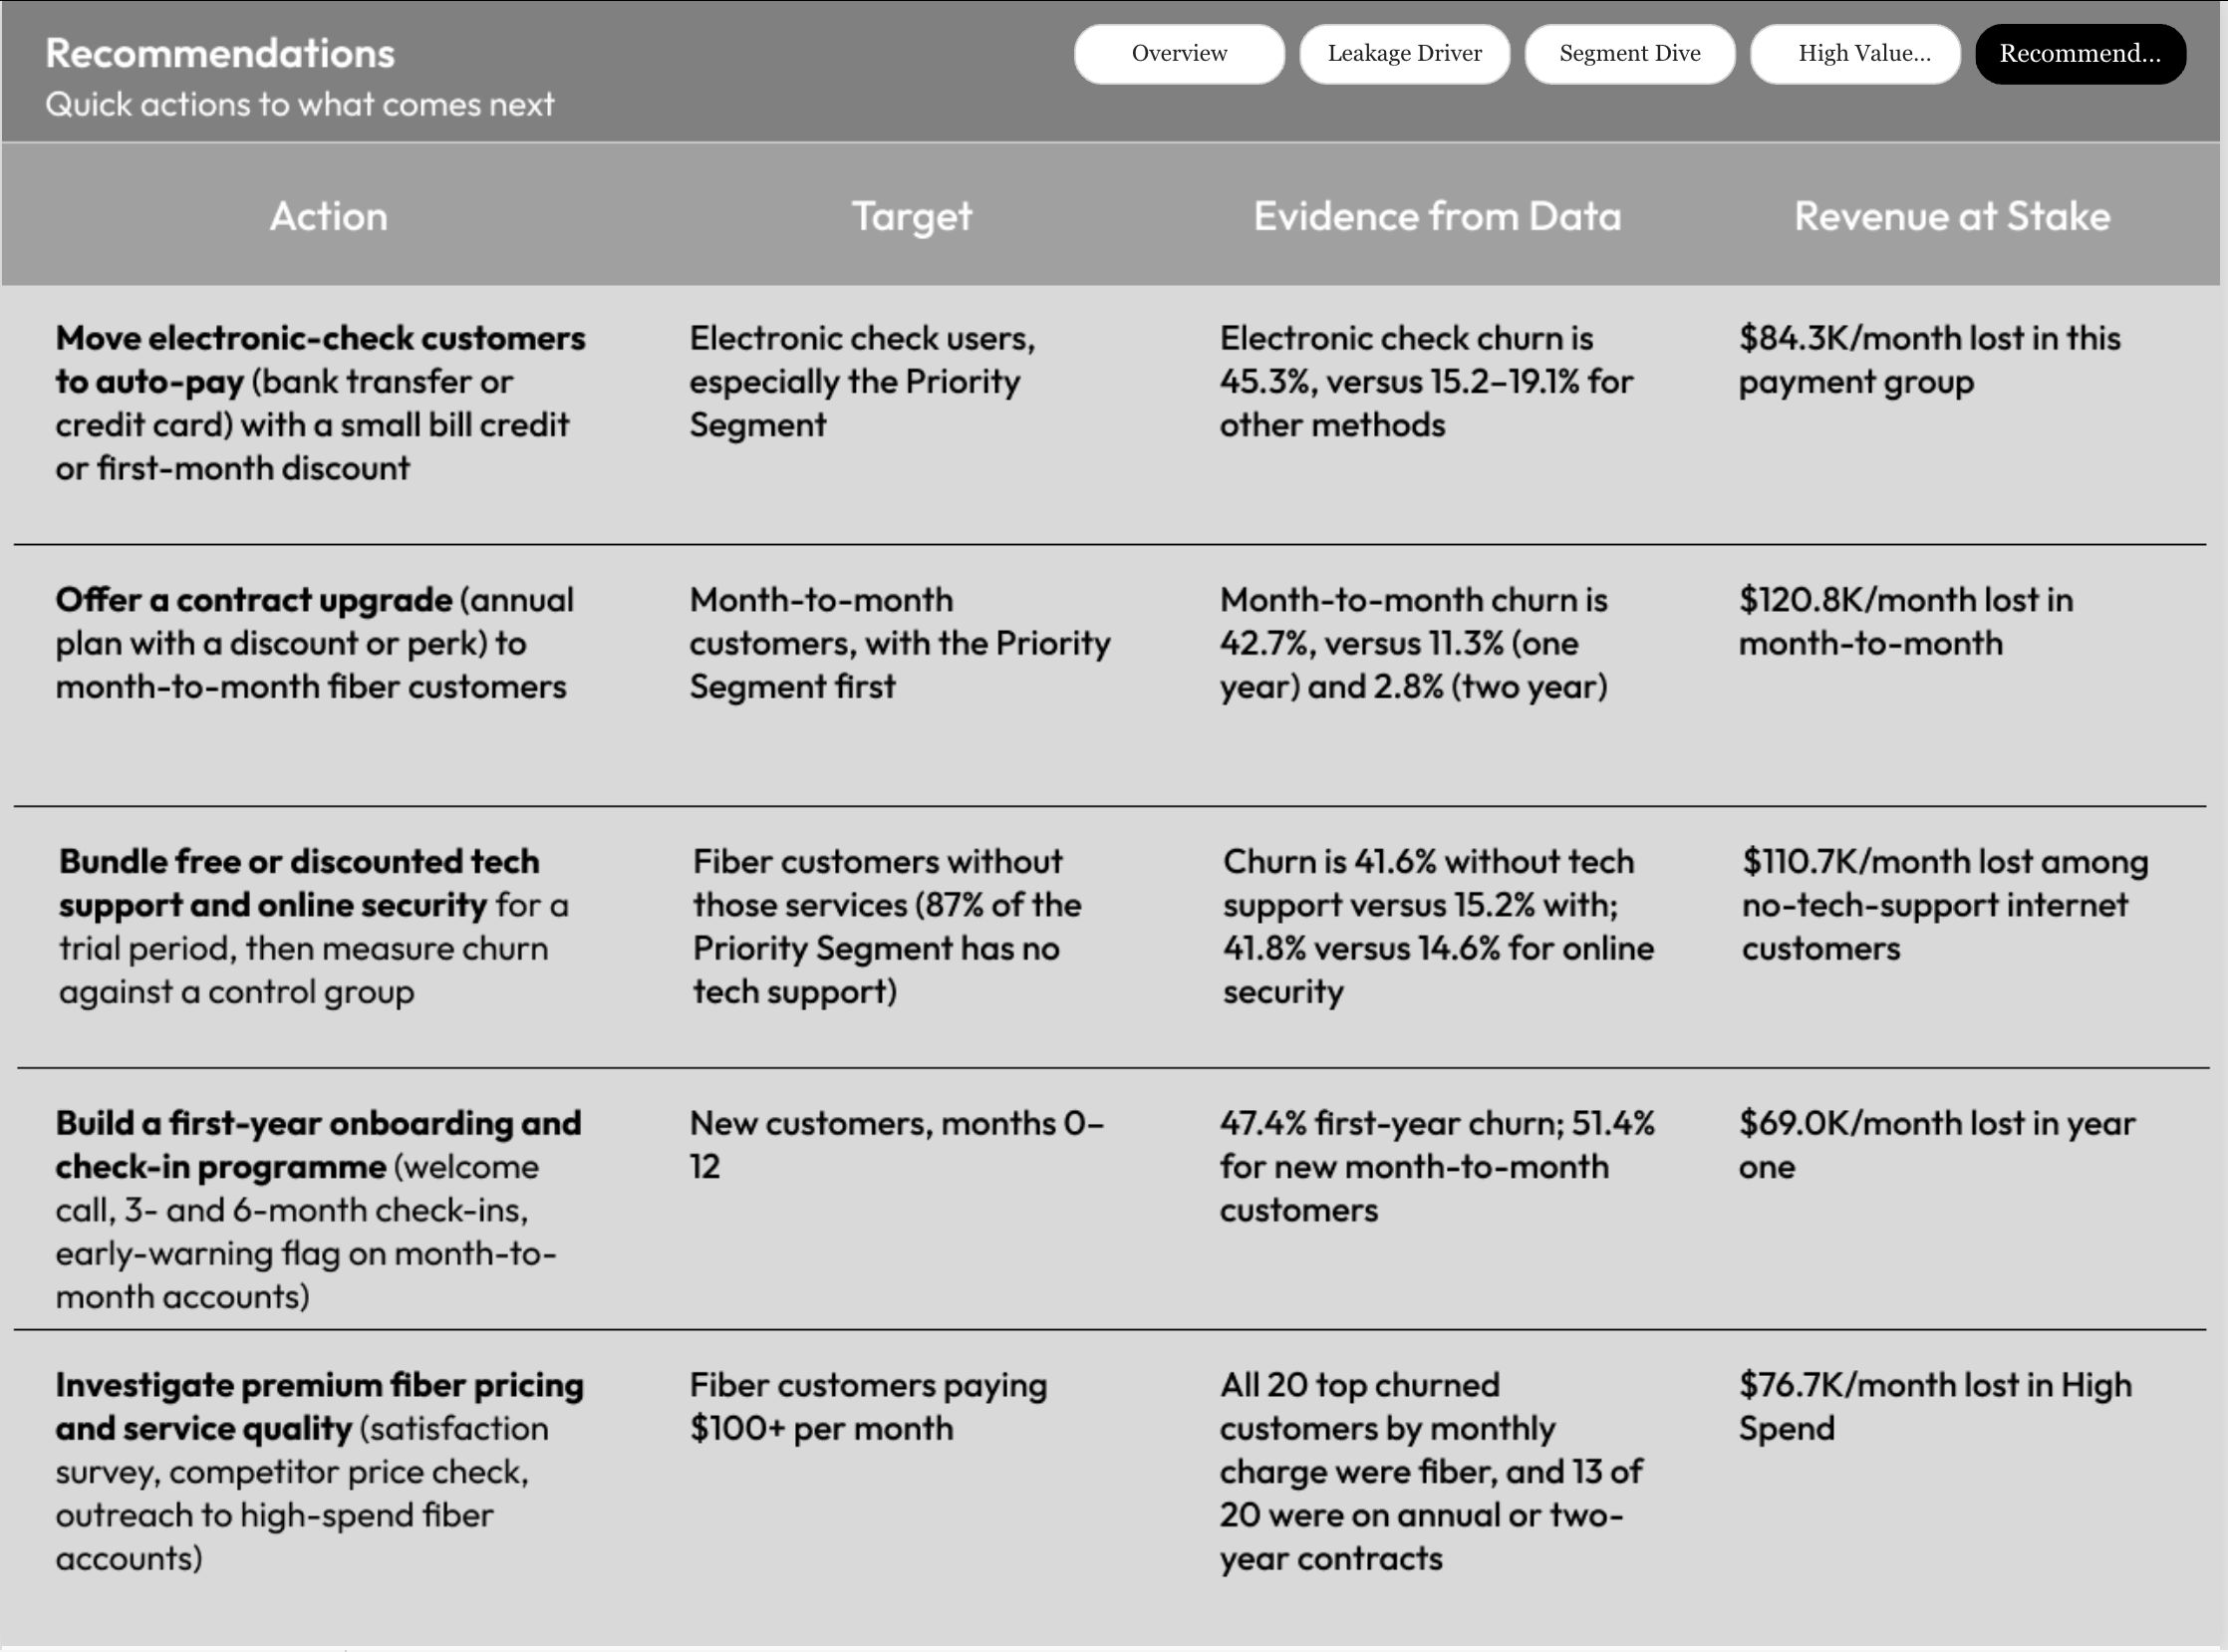

The dashboard page shown, as its layout file describes it:
{"tool":"powerbi","page":{"name":"Recommendations","canvas":[1280,952],"ordinal":4},"visuals":[{"type":"cardVisual","fields":{"Data":["Min(AddOns.customerID)"]},"box":[68,74,280,280],"z":0},{"type":"pageNavigator","box":[618.3,13.6,642.7,35.3],"z":1}]}

Visuals, with their boxes in screenshot pixels (x1, y1, x2, y2), scaled from the page's 1280x952 canvas onto the 2228x1652 screenshot:
cardVisual - Min(AddOns.customerID): [119,129,606,615]
pageNavigator: [1076,24,2195,85]
